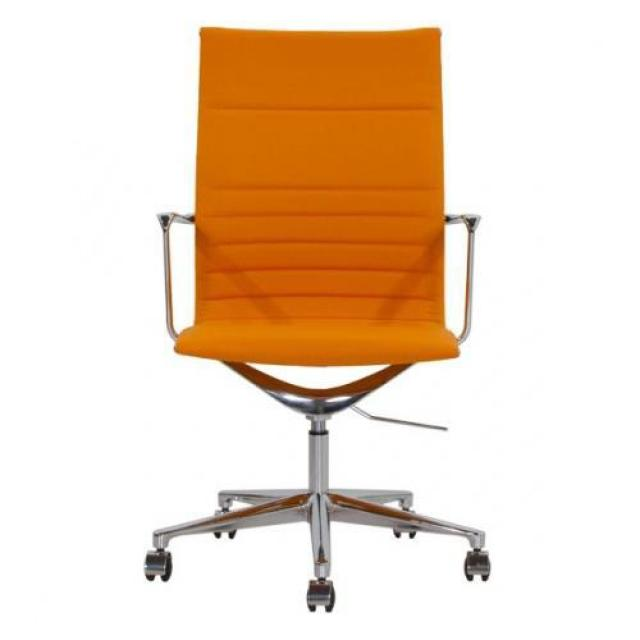swivelchair: (143, 28, 494, 614)
